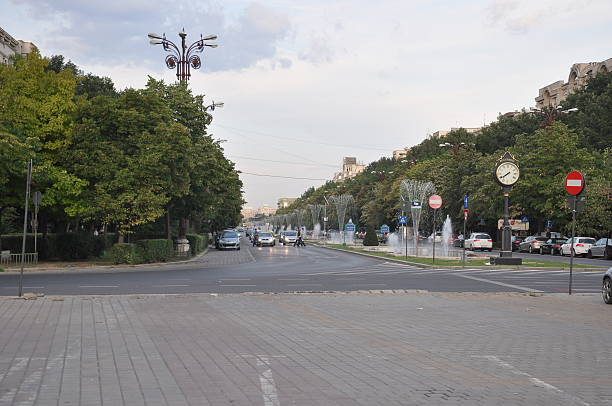Girilmez: (559, 167, 584, 196)
